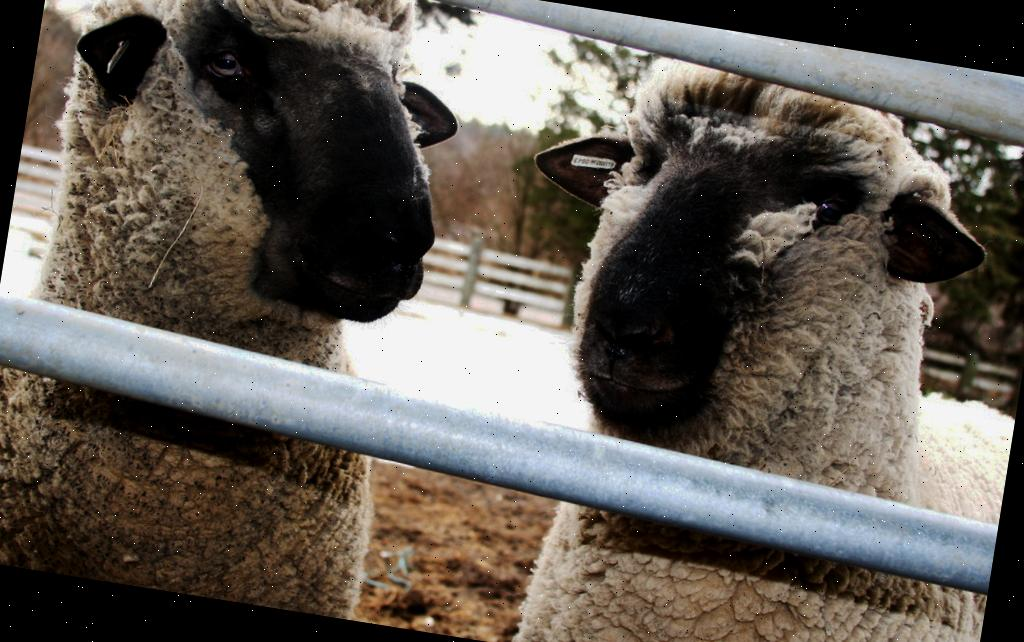Sheep: (458, 38, 1024, 642), (0, 0, 481, 624)
